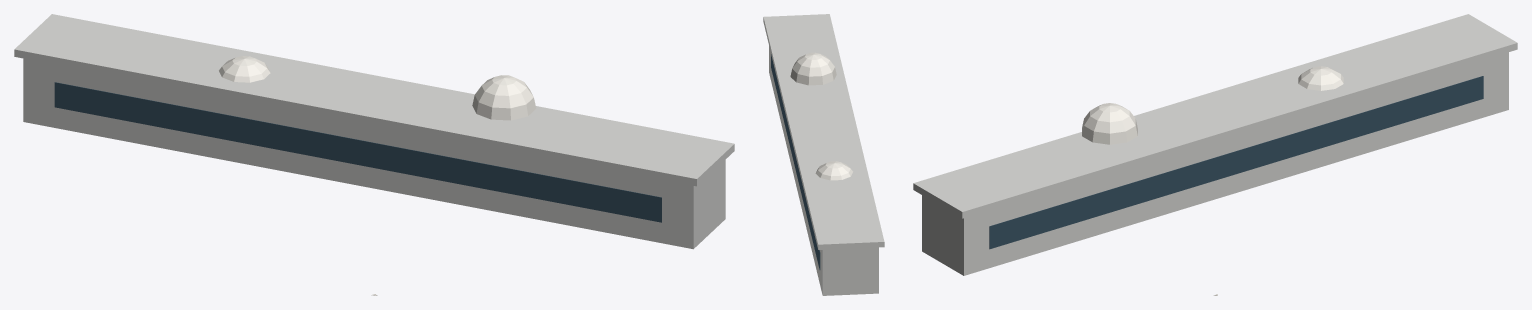
Rendered from riubridge.glb.
The picture shows the model from 3 angles, left to right: view 1: azimuth 30°, elevation 25°; view 2: azimuth 150°, elevation 25°; view 3: azimuth 270°, elevation 25°; orthographic projection. The views are drawn at different scales.
Parts seen in each view (by area): view 1: riubridge_lod0; view 2: riubridge_lod0; view 3: riubridge_lod0.
Part boxes in pixels (x1,y1,x2,y2): riubridge_lod0: (14, 14, 734, 295); riubridge_lod0: (763, 14, 884, 295); riubridge_lod0: (913, 14, 1517, 295).
Size of what is drawn, in the model's own units: 22.28 by 11.62 by 28.74.
